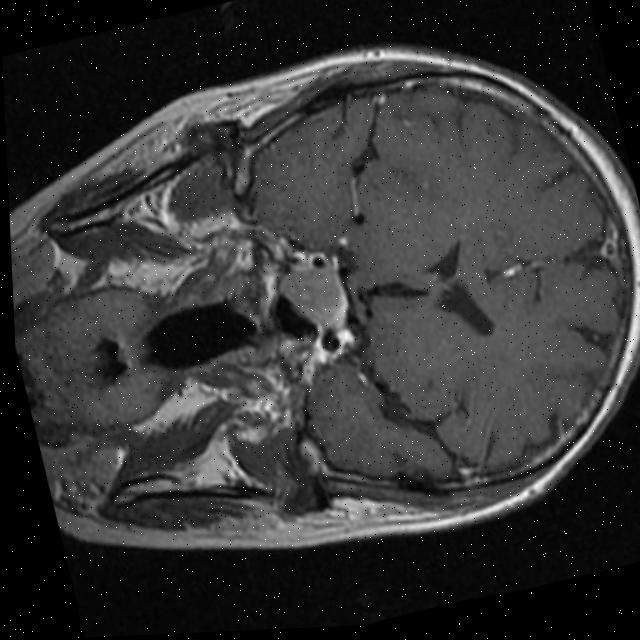Pituitary: (275, 257, 353, 337)
